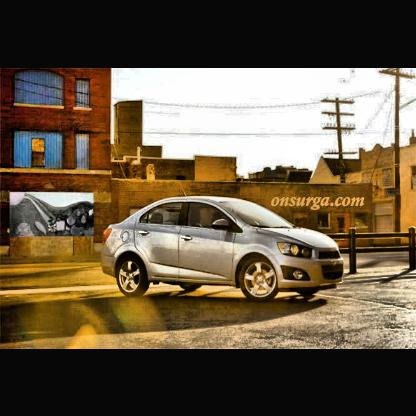Chevrolet Sonic Sedan 2012: (102, 197, 347, 303)
